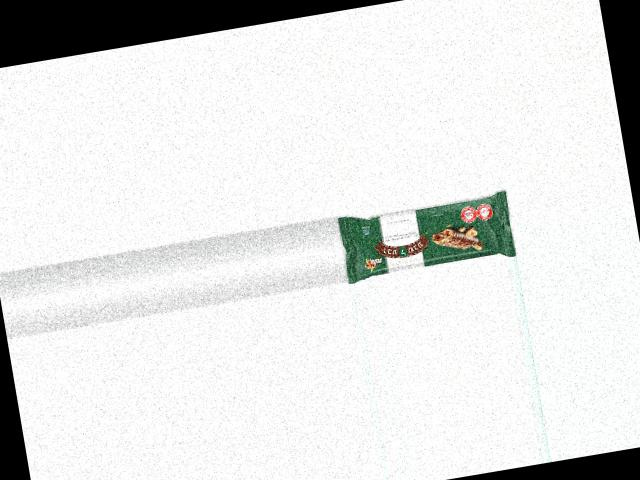chocolate: (334, 185, 517, 284)
